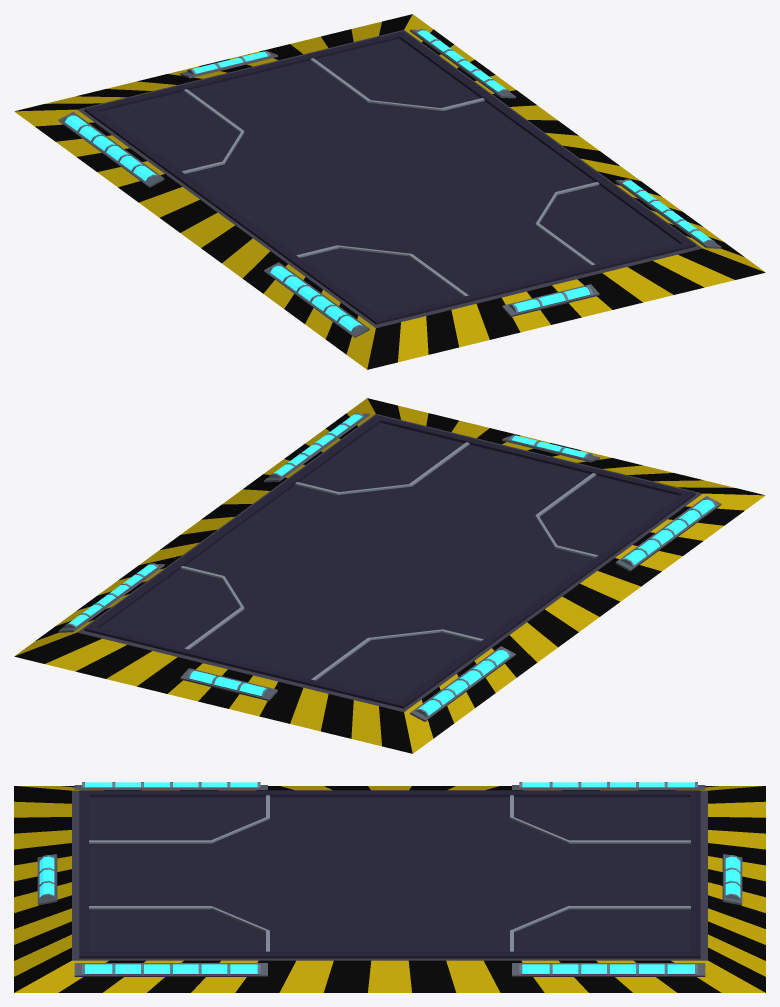
Rendered from StartZone.fbx.
3 renders of one model, top to bottom at view 1: azimuth 30°, elevation 25°; view 2: azimuth 150°, elevation 25°; view 3: azimuth 270°, elevation 25°, orthographic. The views are drawn at different scales.
Visible parts, largest first — view 1: StartZone; view 2: StartZone; view 3: StartZone.
Part boxes in pixels (left/top/right/bottom): StartZone: left=14, top=14, right=765, bottom=369; StartZone: left=14, top=398, right=765, bottom=753; StartZone: left=14, top=782, right=765, bottom=992.
Bounding box in the file's own units: 238 × 8.72 × 365.
